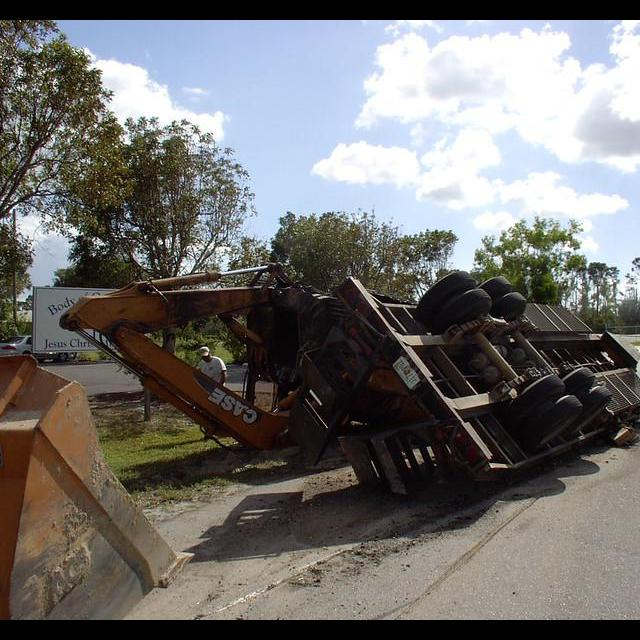Excavator: (61, 271, 640, 490)
NO-Hardhat: (199, 344, 209, 356)
NO-Mask: (204, 359, 212, 363)
NO-Safety Vest: (202, 358, 220, 378)
Person: (197, 345, 227, 440)
sedan: (0, 335, 51, 361)
wheel loader: (0, 354, 194, 620)
